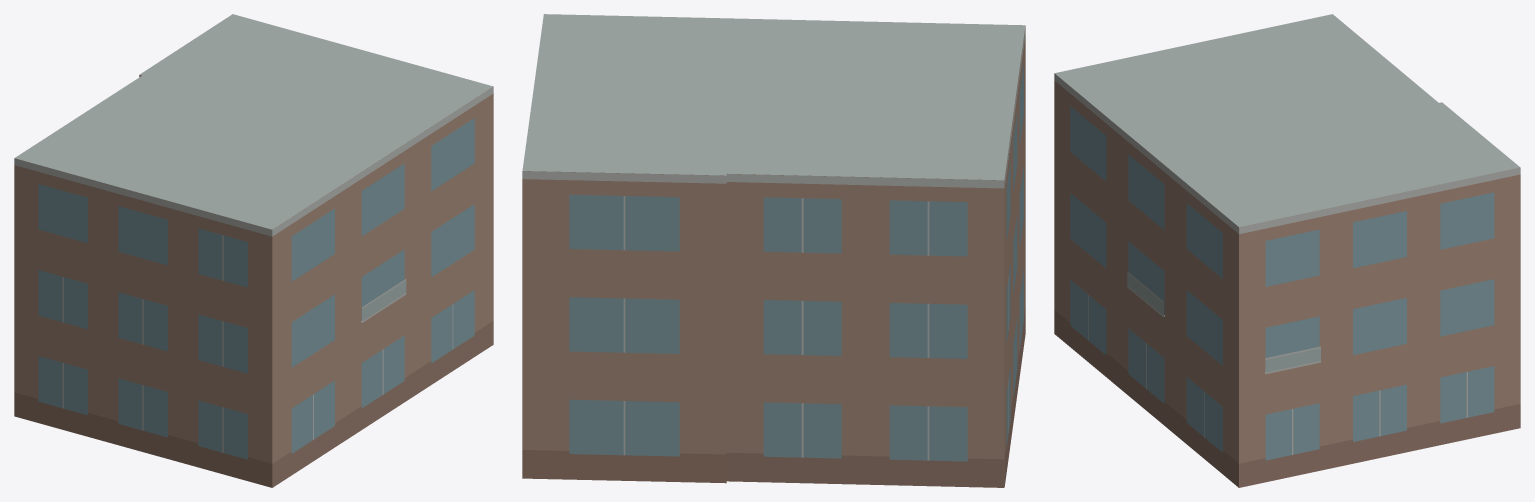
File: survey-upis-32837301.glb
The picture shows the model from 3 angles, left to right: view 1: azimuth 30°, elevation 25°; view 2: azimuth 150°, elevation 25°; view 3: azimuth 270°, elevation 25°; orthographic projection. The views are drawn at different scales.
Visible parts, largest first — view 1: survey-upis-32837301.tmp; view 2: survey-upis-32837301.tmp; view 3: survey-upis-32837301.tmp.
Part boxes in pixels (left/top/right/bottom): survey-upis-32837301.tmp: left=14, top=14, right=493, bottom=487; survey-upis-32837301.tmp: left=522, top=14, right=1025, bottom=487; survey-upis-32837301.tmp: left=1054, top=14, right=1520, bottom=487.
Size of the model in its own units: 16.07 by 9.15 by 14.85.
